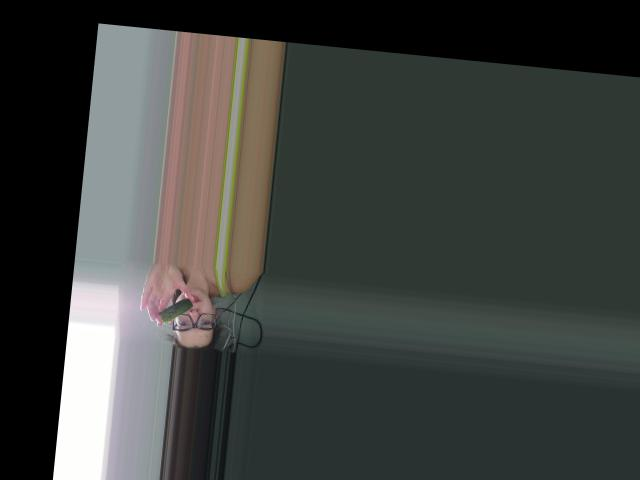cucumber: (159, 295, 193, 325)
